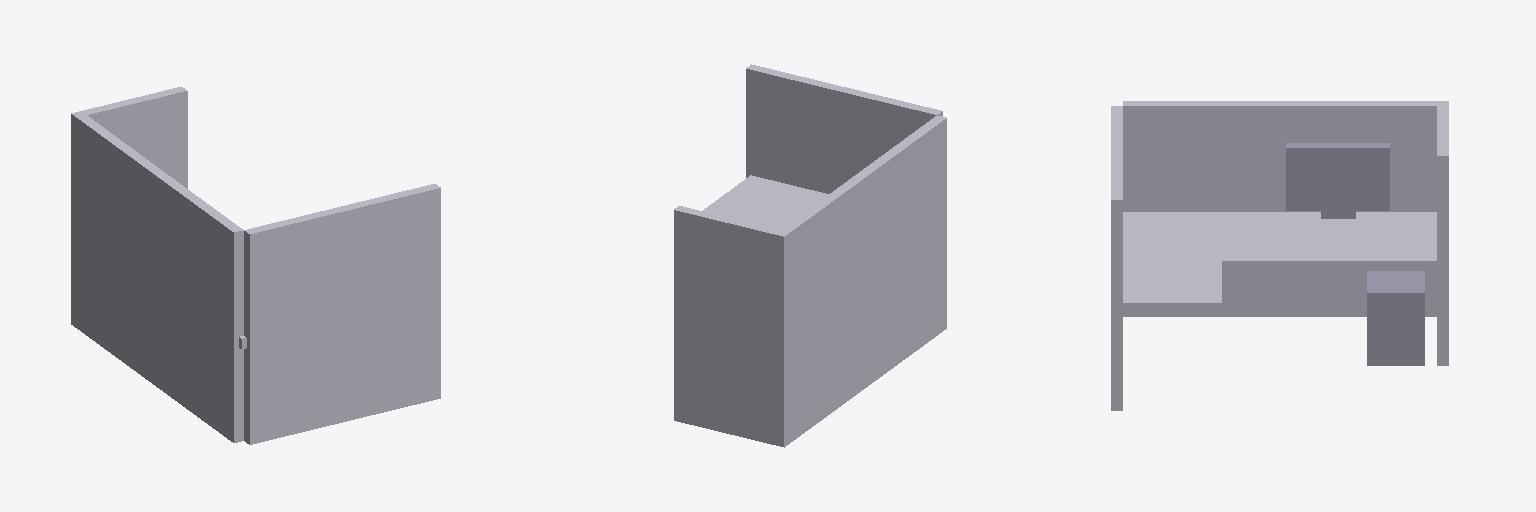
Rendered from desk3.obj.
The picture shows the model from 3 angles: view 1: azimuth 30°, elevation 25°; view 2: azimuth 150°, elevation 25°; view 3: azimuth 270°, elevation 25°; orthographic projection.
Bounding box in the file's own units: 2 × 2 × 2.9.